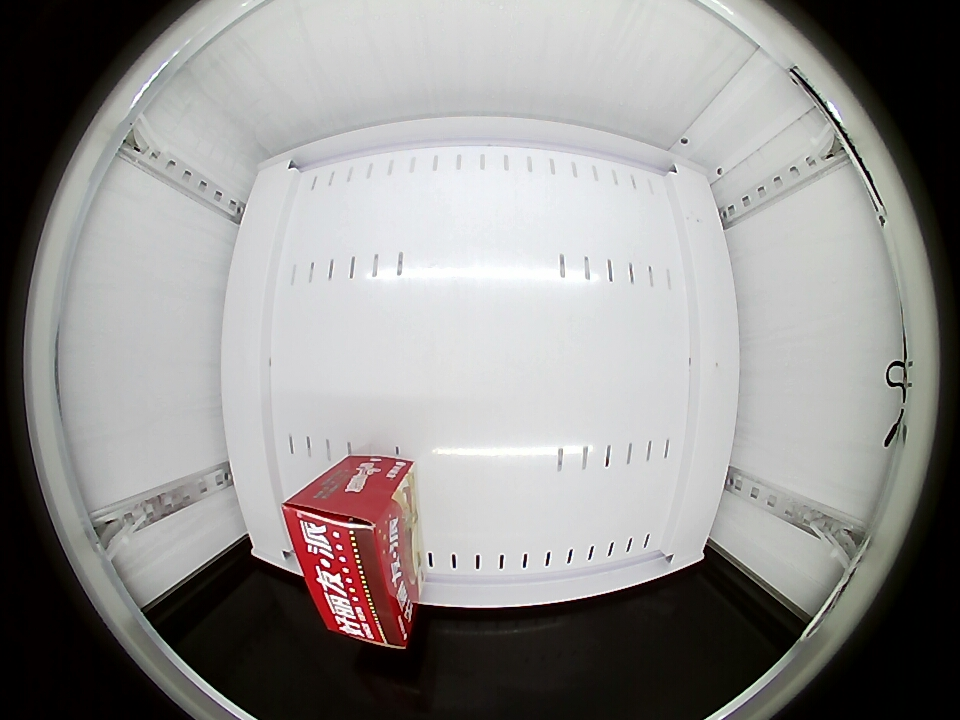haoliyou: (280, 478, 415, 647)
